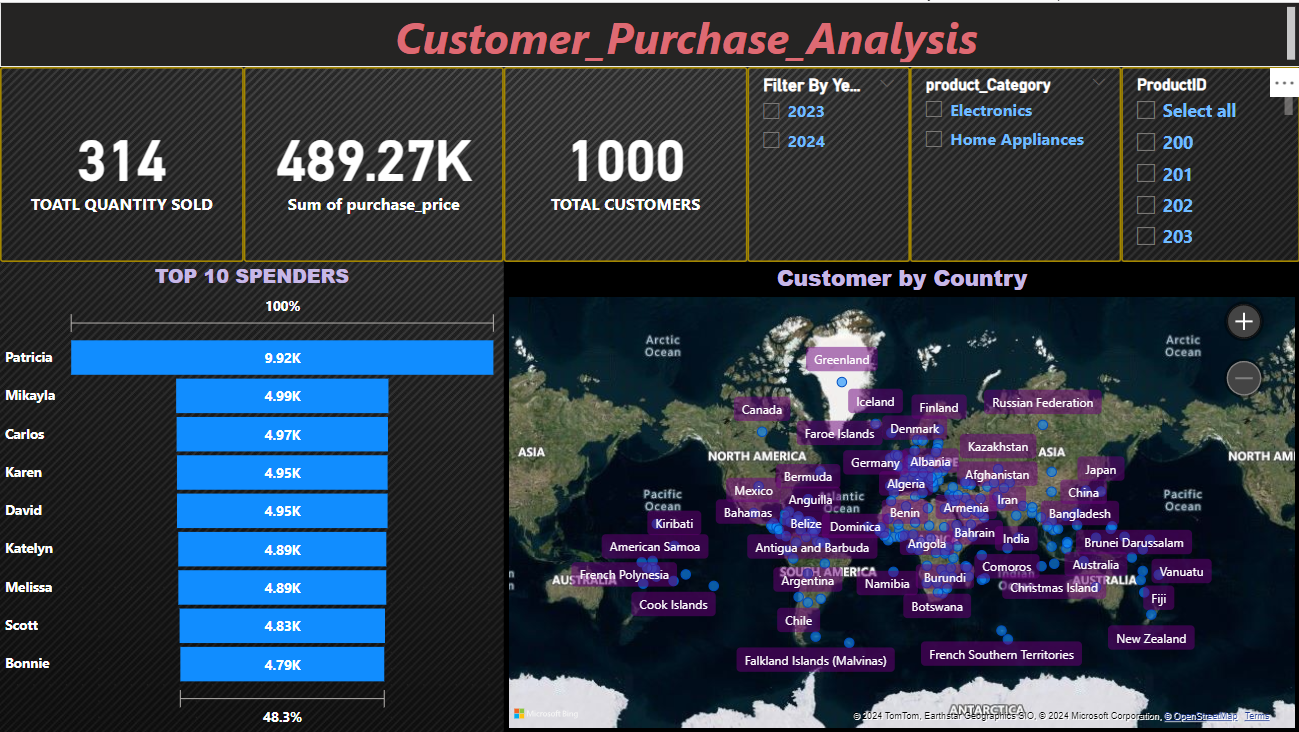

What the dashboard file says about the page in this screenshot:
{"tool":"powerbi","page":{"name":"Page 1","canvas":[1280,720],"ordinal":0},"visuals":[{"type":"card","fields":{"Values":["retails customer_purchase_data.TOATL QUANTITY SOLD"]},"box":[0,64,240,192],"z":0},{"type":"slicer","fields":{"Values":["retails purchase.purchase_date.Variation.Date Hierarchy.Year"]},"box":[736,64,160,192],"z":1000},{"type":"card","fields":{"Values":["retails purchase.purchase_price"]},"box":[240,64,256,192],"z":2000},{"type":"card","fields":{"Values":["retails customer_purchase_data.TOTAL CUSTOMERS"]},"box":[496,64,240,192],"z":3000},{"type":"slicer","fields":{"Values":["retails products.product_Category"]},"box":[896,64,208,192],"z":4000},{"type":"slicer","fields":{"Values":["retails customer_purchase_data.ProductID"]},"box":[1104,64,176,192],"z":5000},{"type":"funnel","title":"TOP 10 SPENDERS","fields":{"Category":["retails customer_purchase_data.Firstname","retails customer_purchase_data.CustomerID"],"Y":["retails customer_purchase_data.TOTAL REVENUE"]},"box":[0,256,496,464],"z":6000},{"type":"map","title":"Customer by Country","fields":{"Category":["retails customer_purchase_data.Country"]},"box":[496,256,784,464],"z":7000},{"type":"textbox","box":[0,0,1280,64],"z":7001}]}

Visuals, with their boxes in screenshot pixels (x1, y1, x2, y2), scaled from the page's 1280x720 canvas onto the 1299x732 screenshot:
card - retails customer_purchase_data.TOATL QUANTITY SOLD: <region>0, 65, 244, 260</region>
slicer - retails purchase.purchase_date.Variation.Date Hierarchy.Year: <region>747, 65, 909, 260</region>
card - retails purchase.purchase_price: <region>244, 65, 503, 260</region>
card - retails customer_purchase_data.TOTAL CUSTOMERS: <region>503, 65, 747, 260</region>
slicer - retails products.product_Category: <region>909, 65, 1120, 260</region>
slicer - retails customer_purchase_data.ProductID: <region>1120, 65, 1298, 260</region>
"TOP 10 SPENDERS" funnel: <region>0, 260, 503, 731</region>
"Customer by Country" map: <region>503, 260, 1298, 731</region>
textbox: <region>0, 0, 1298, 65</region>
